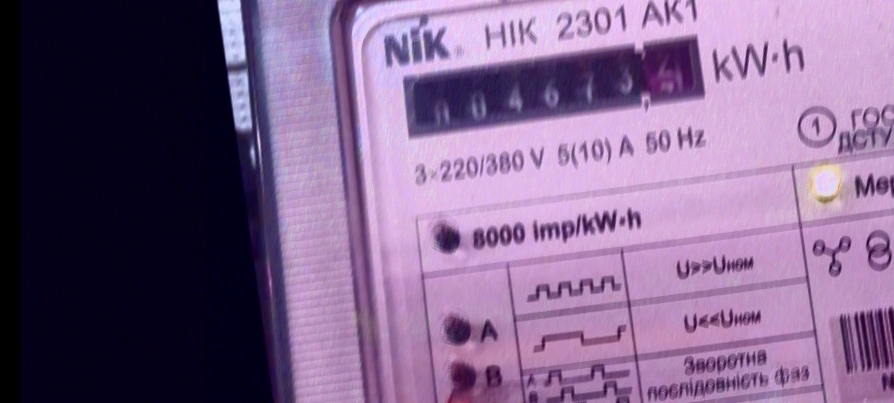0: (428, 94, 452, 127), (466, 87, 488, 121)
2: (651, 45, 675, 80)
3: (613, 60, 635, 96)
4: (503, 78, 525, 115)
6: (536, 73, 562, 110)
7: (574, 68, 601, 107)
screen: (394, 30, 711, 148)
